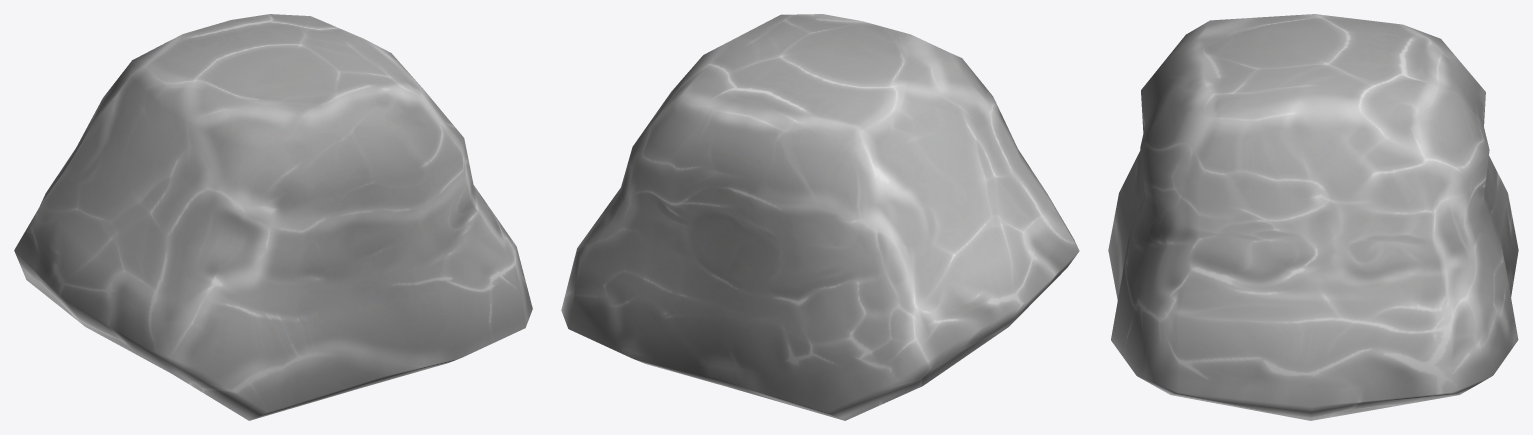
Rendered from roca9.fbx.
3 views of the same model, side by side, from view 1: azimuth 30°, elevation 25°; view 2: azimuth 150°, elevation 25°; view 3: azimuth 270°, elevation 25° (orthographic).
Visible parts, largest first — view 1: roca9; view 2: roca9; view 3: roca9.
Boxes of the visible parts, box(x1,y1,x2,y2) form: roca9: box(14, 14, 532, 420); roca9: box(561, 14, 1079, 420); roca9: box(1108, 14, 1518, 420).
Size of the model in its own units: 13.44 by 9.07 by 11.22.
